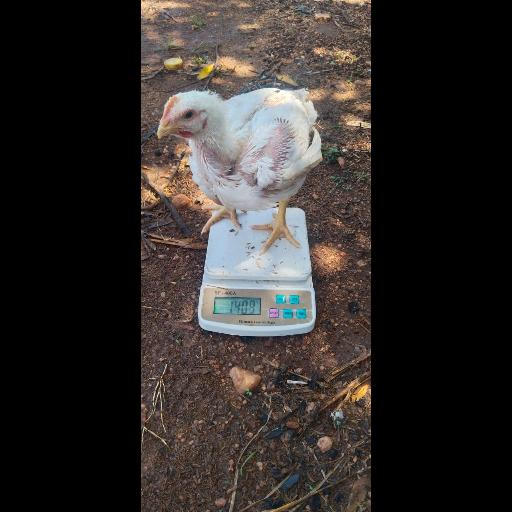chick: (159, 86, 321, 252)
